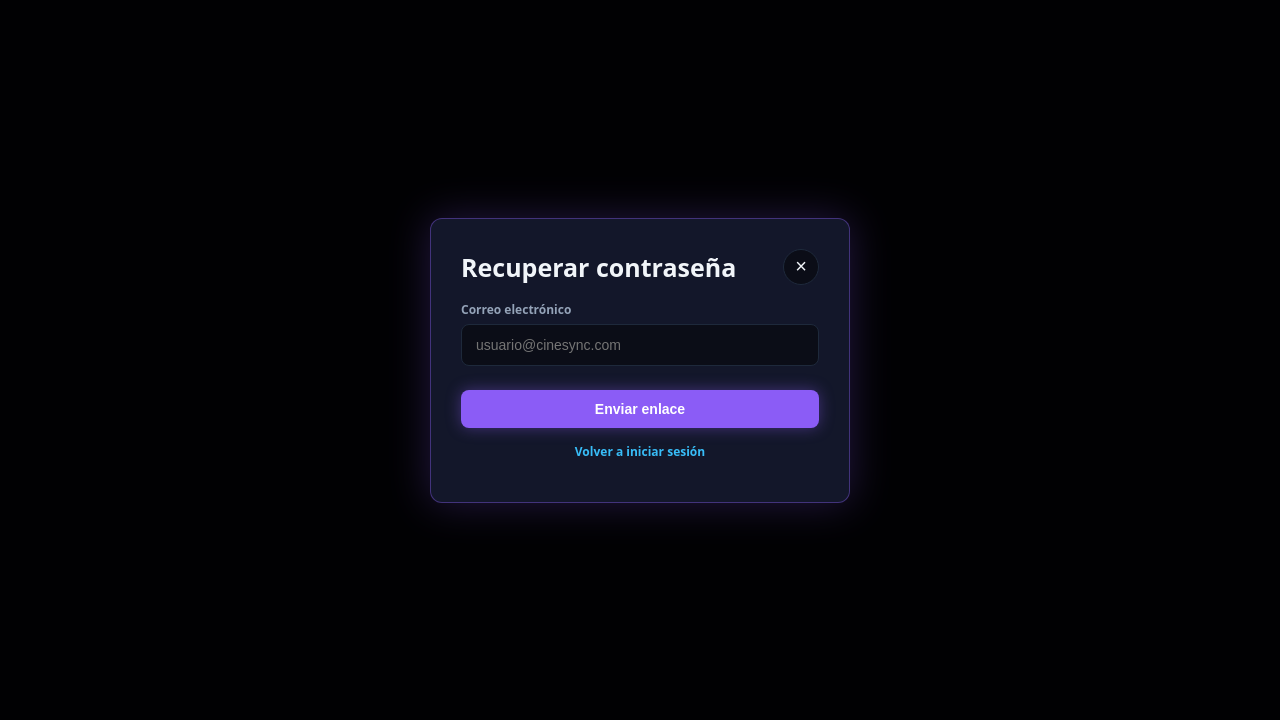
Test: ForgotPasswordPageComponent › shows the generic message of an unexpected failure when the key conflicts
Type "maria@cinesync.com" into the field with id "forgot-email" at x=640, y=344, box [461,324,819,366]
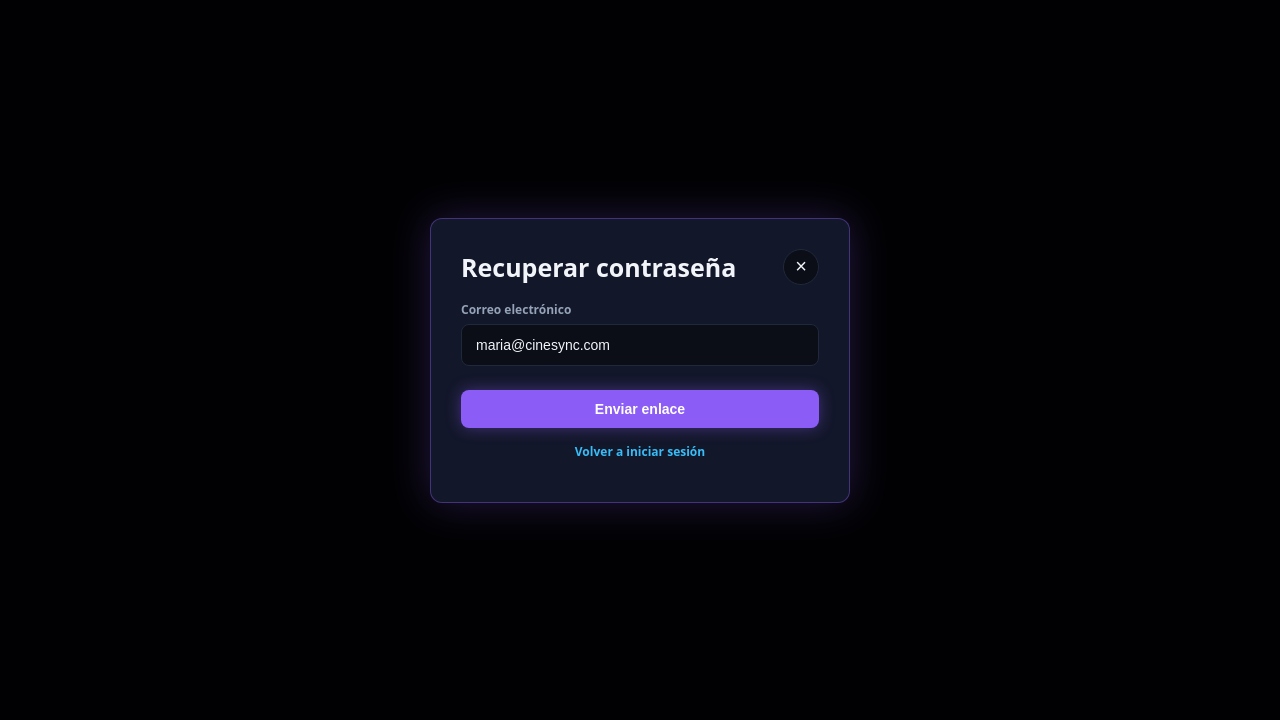
Submit the form, box [461,300,819,428]
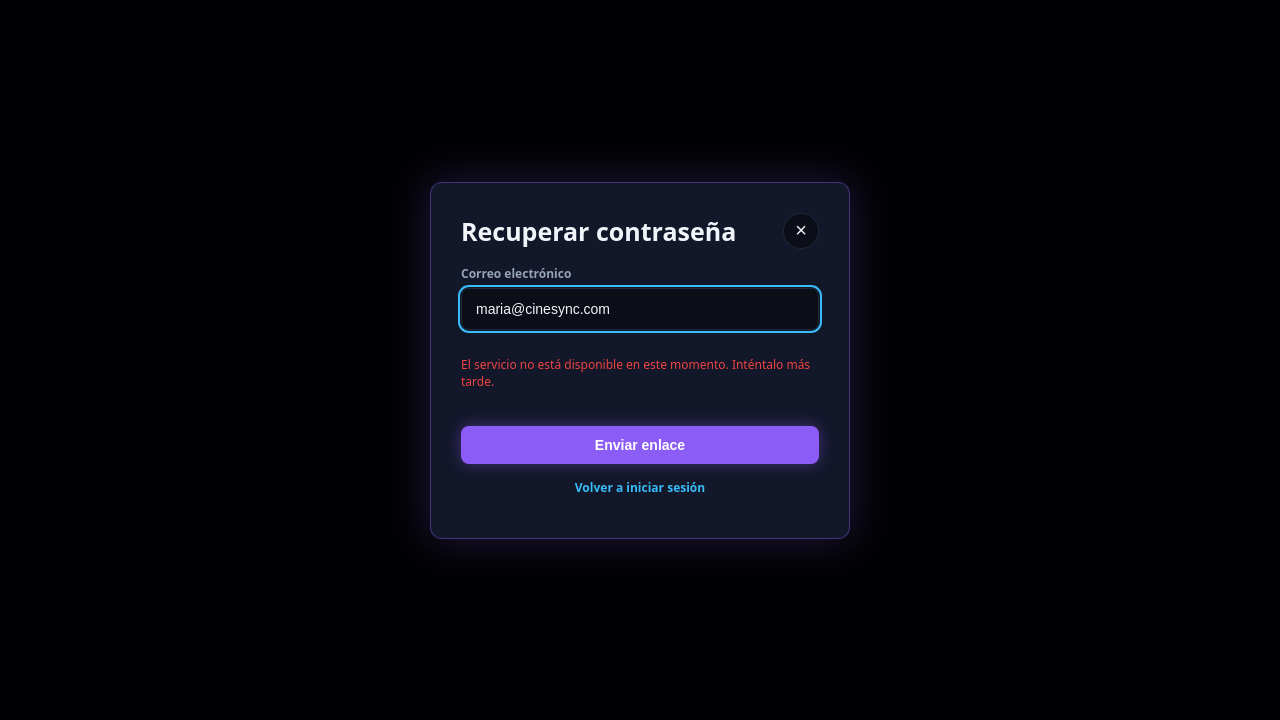
Expected: the message "El servicio no está disponible en este momento. Inténtalo más tarde." is shown, [461,356,819,390]
